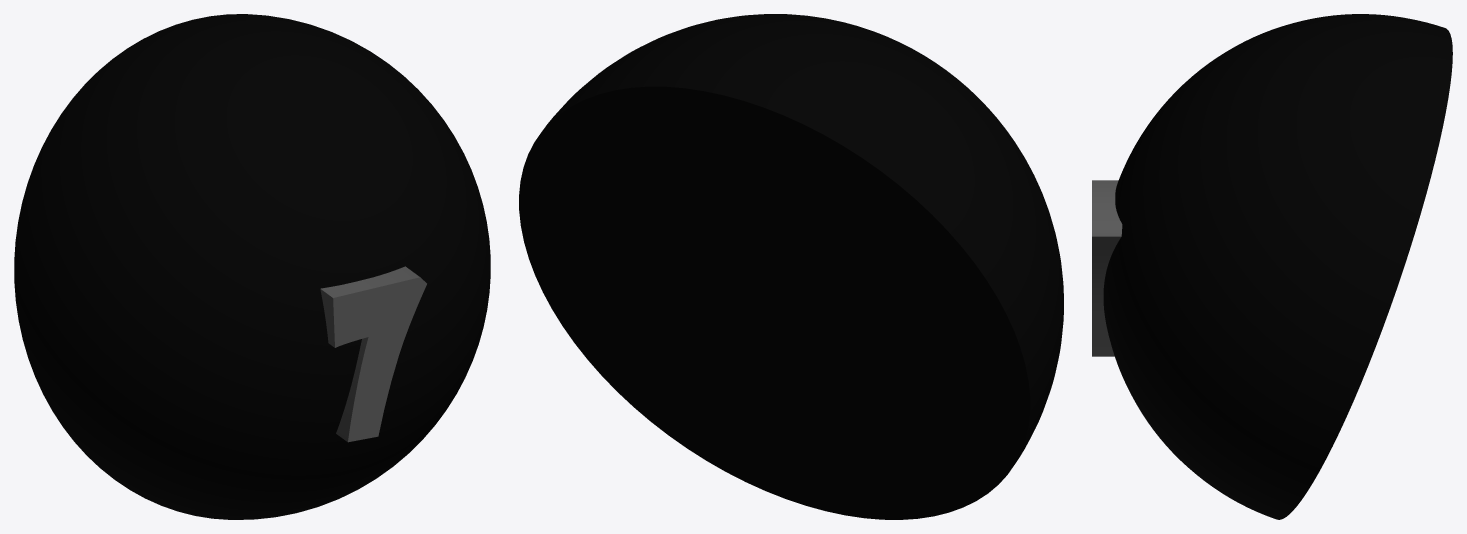
File: button7.fbx
The picture shows the model from 3 angles, left to right: view 1: azimuth 30°, elevation 25°; view 2: azimuth 150°, elevation 25°; view 3: azimuth 270°, elevation 25°; orthographic projection. The views are drawn at different scales.
Visible parts, largest first — view 1: root, node_id148; view 2: root; view 3: root, node_id148.
Part boxes in pixels (<box>): root: <box>14,14,490,519</box>; node_id148: <box>320,266,426,442</box>; root: <box>519,14,1063,519</box>; root: <box>1103,14,1452,519</box>; node_id148: <box>1092,180,1122,356</box>.
Bounding box in the file's own units: 0.2 × 0.1936 × 0.1388.
2 materials, 1 textured.
